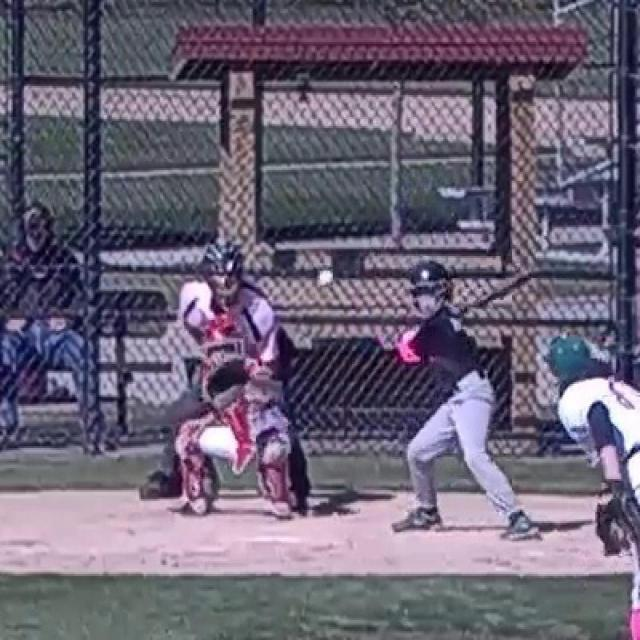baseball: (318, 271, 332, 285)
